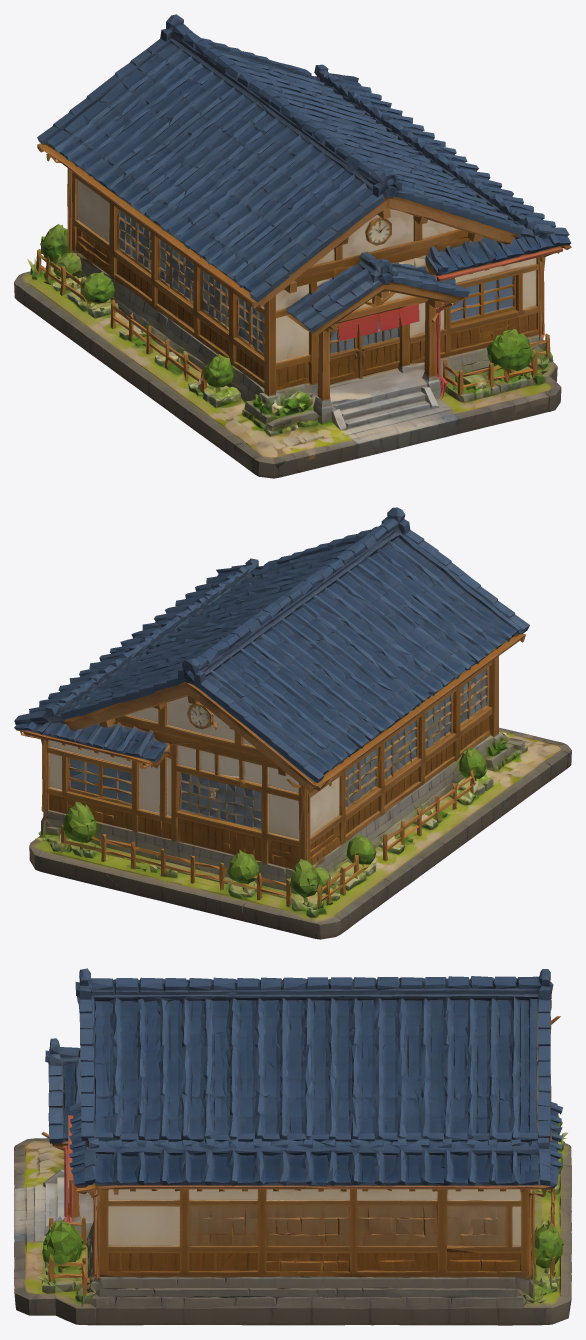
Rendered from source.glb.
3 views of the same model, one above another, from view 1: azimuth 30°, elevation 25°; view 2: azimuth 150°, elevation 25°; view 3: azimuth 270°, elevation 25° (orthographic). The views are drawn at different scales.
Parts seen in each view (by area): view 1: model; view 2: model; view 3: model.
Boxes of the visible parts, left/top/right/bottom form: model: left=14, top=14, right=571, bottom=478; model: left=14, top=507, right=571, bottom=939; model: left=14, top=968, right=571, bottom=1325.
Size of the model in its own units: 1.44 by 1.01 by 1.89.
1 material, 1 textured.
